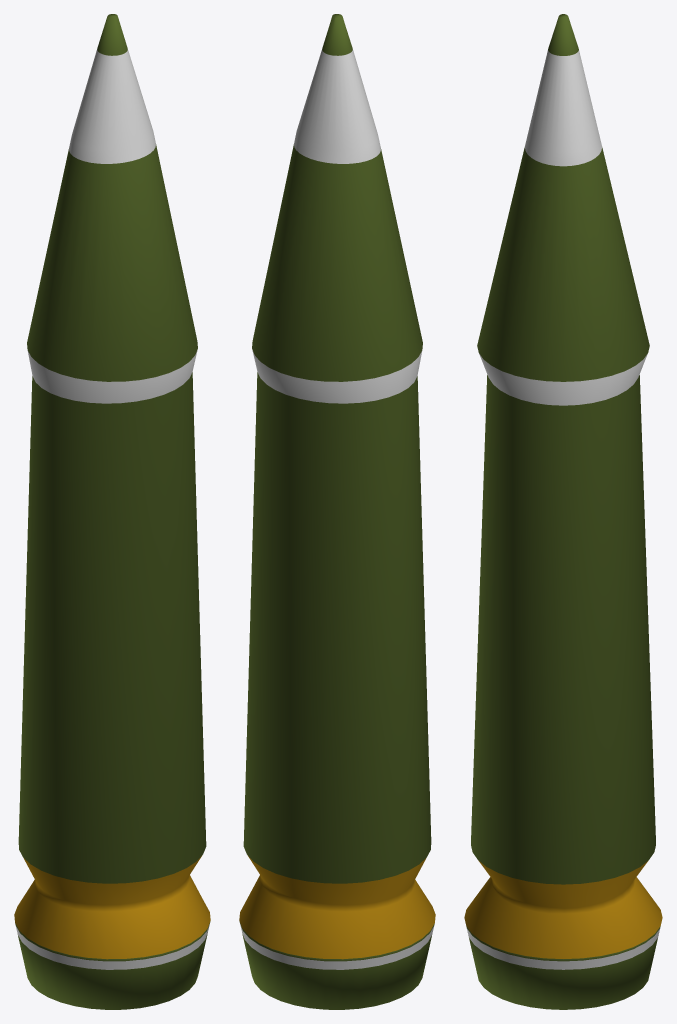
File: Howitzer_Round.glb
The picture shows the model from 3 angles, left to right: view 1: azimuth 30°, elevation 25°; view 2: azimuth 150°, elevation 25°; view 3: azimuth 270°, elevation 25°; orthographic projection.
Visible parts, largest first — view 1: Cylinder; view 2: Cylinder; view 3: Cylinder.
Part boxes in pixels (x1,y1,x2,y2): Cylinder: (14,14,210,1009); Cylinder: (239,14,435,1009); Cylinder: (464,14,662,1009).
Bounding box in the file's own units: 0.4732 × 2.55 × 0.4782.
